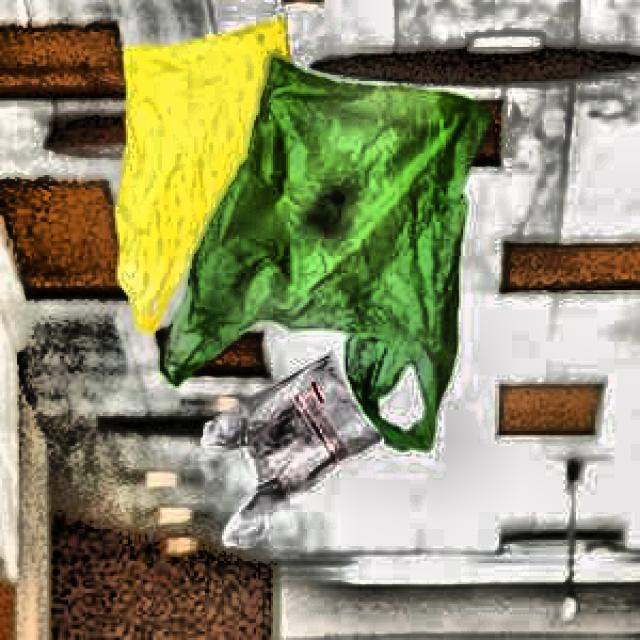Plastic: (148, 53, 488, 466), (107, 29, 302, 343), (182, 364, 390, 568)
